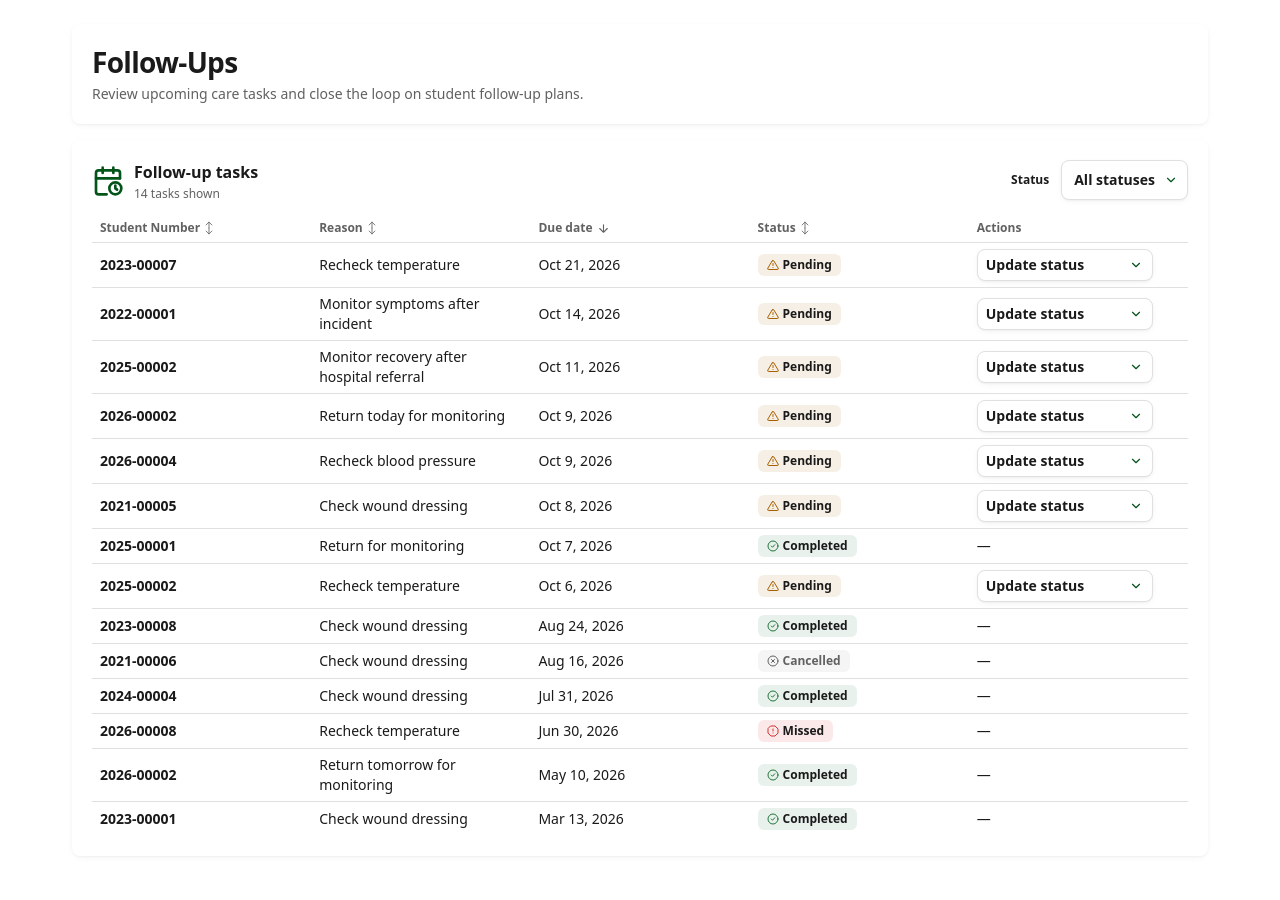
FollowUpListPage › uses the linked Student Number and records completion as an audited update, with no extra step
Expected: the column heading "2023-00001" is shown, [92, 802, 311, 836]
Click the button named "update status for": (1065, 265) [977, 249, 1153, 281]
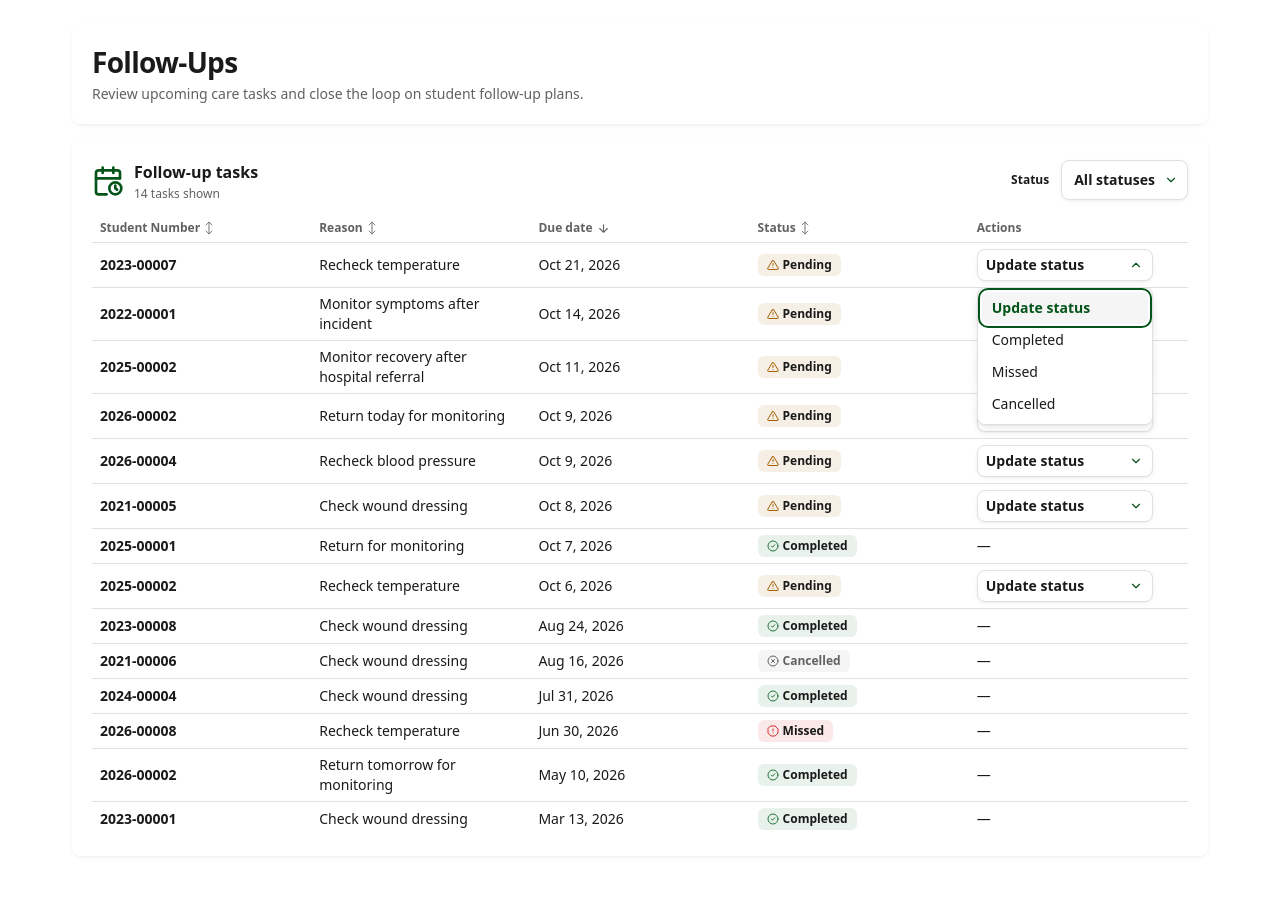
Select "Completed" in the list: (1065, 356) [977, 287, 1153, 425]
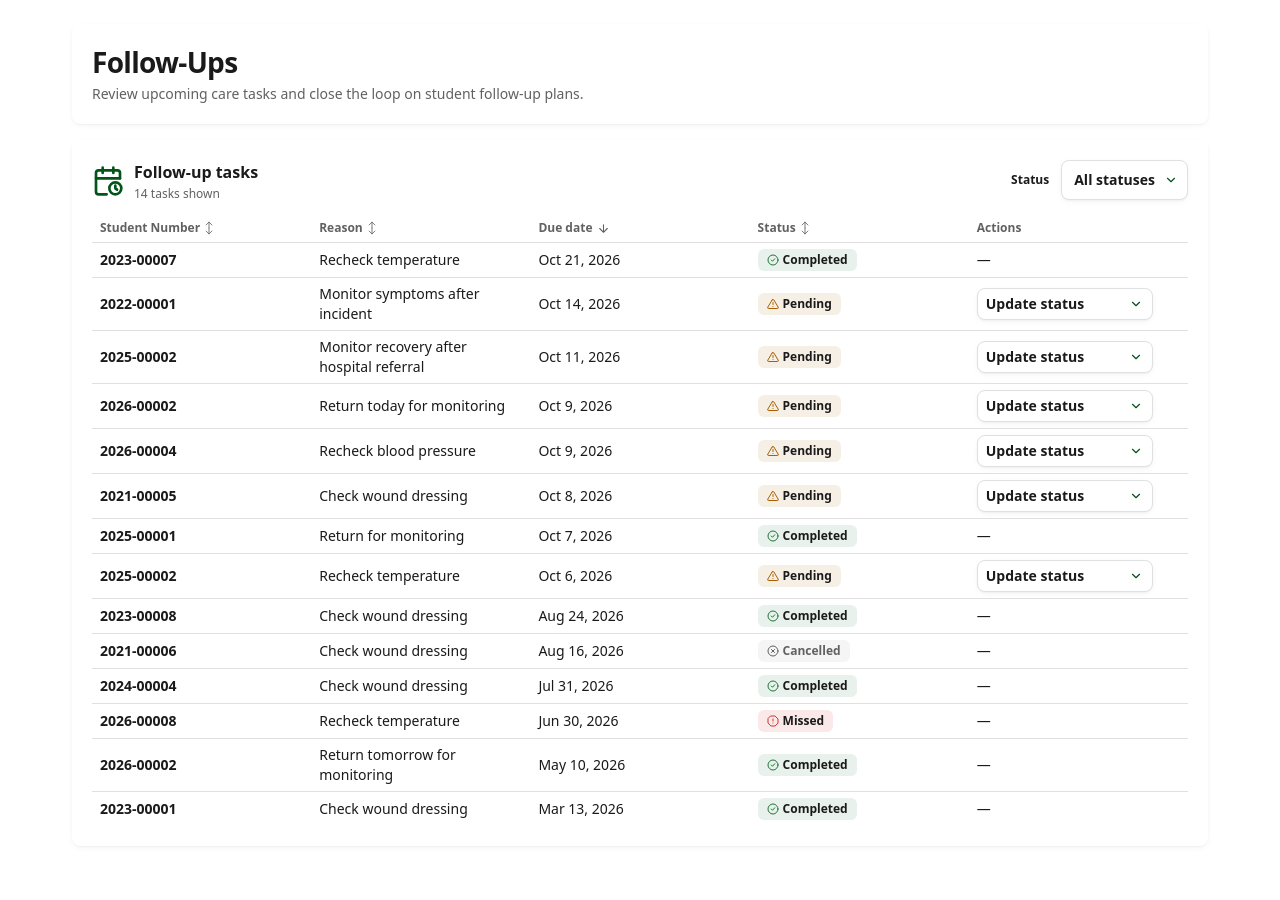
Expected: the number of buttons named "update status for" is 6, [977, 288, 1153, 320]; [977, 341, 1153, 373]; [977, 390, 1153, 422]; [977, 435, 1153, 467]; [977, 480, 1153, 512]; [977, 560, 1153, 592]
